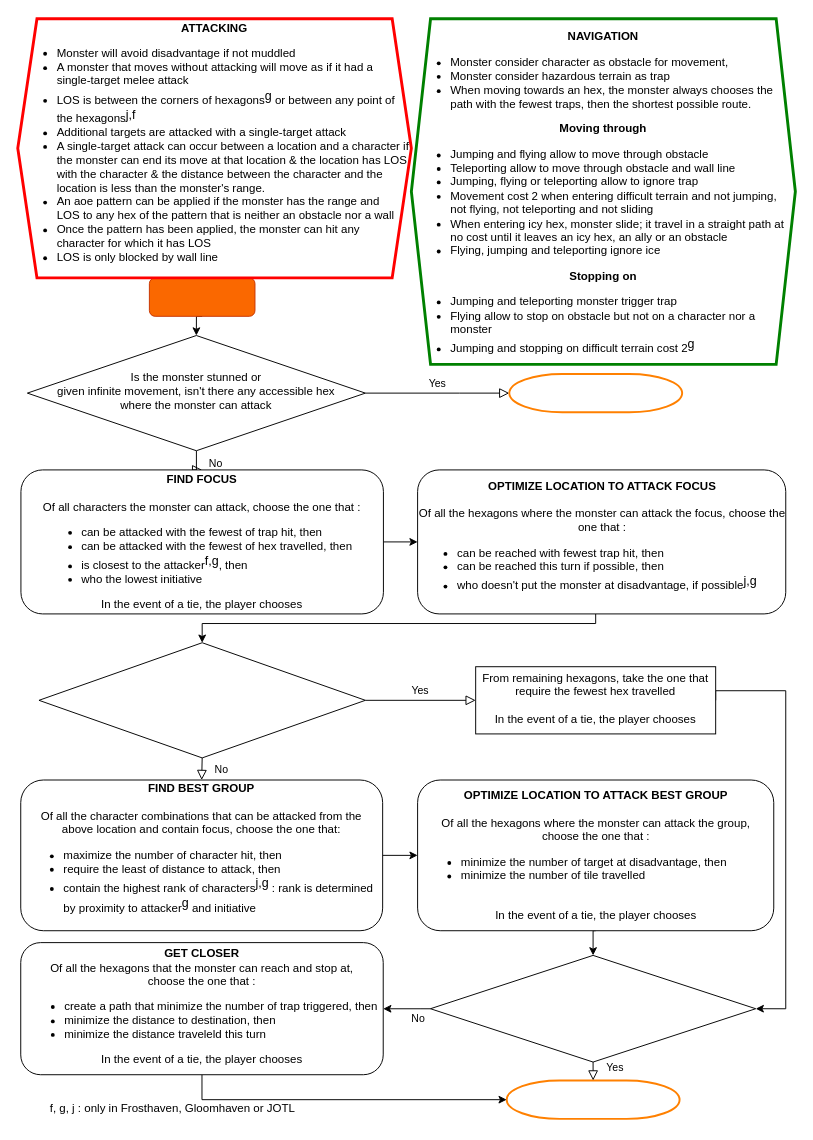
Some shapes in this 813 by 1140 pixel diagram are drawn without their labels. Here are the shapes that lost their labels. From the top down, the centre of each, then its label:
At (201,296): "Start".
At (595,392): "Monster does not move".
At (201,700): "Single target attack or (cannot reach the hex to attack focus) f ?".
At (593,1008): "Can the monster reach the destination this turn ?".
At (592,1099): "Monster move to this destination".
